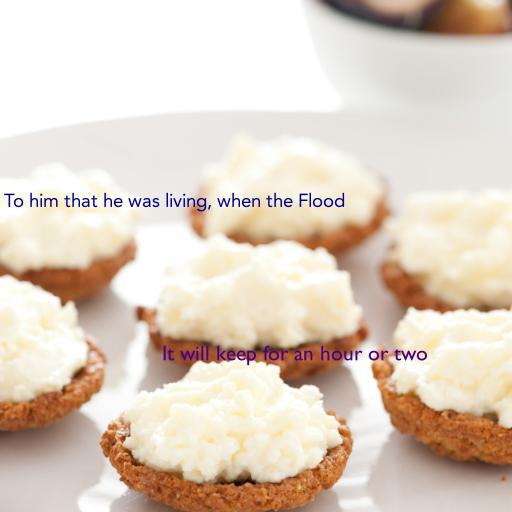Avenir: (3, 192, 345, 212)
Gill Sans: (162, 345, 428, 366)
